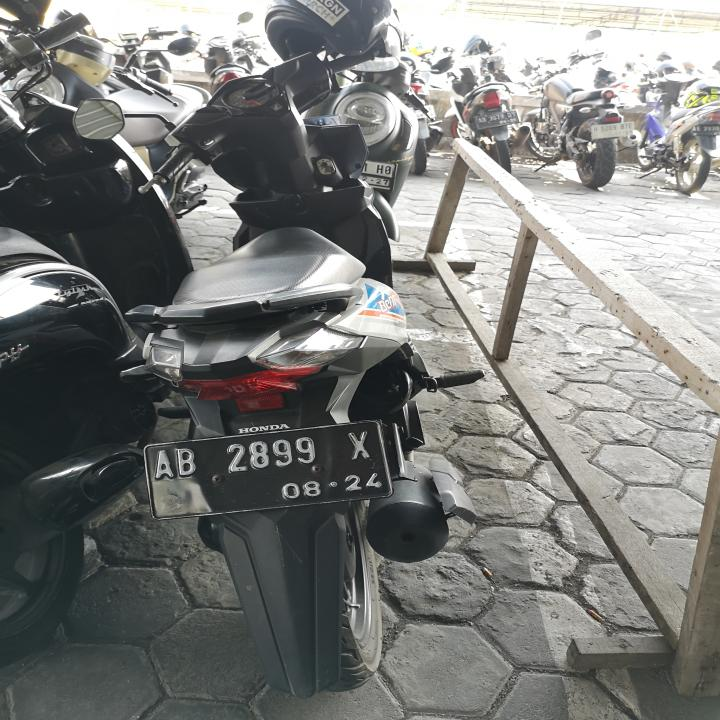plate: (141, 417, 393, 522)
